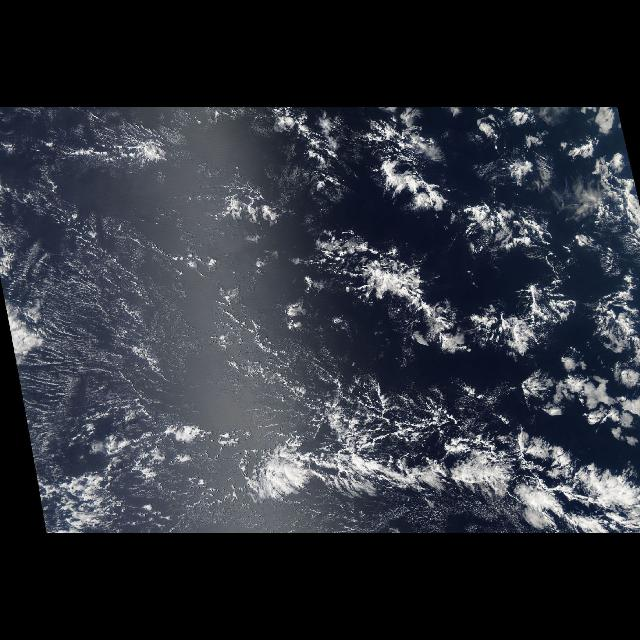Fish: (228, 232, 640, 530)
Sugar: (2, 210, 180, 510)
